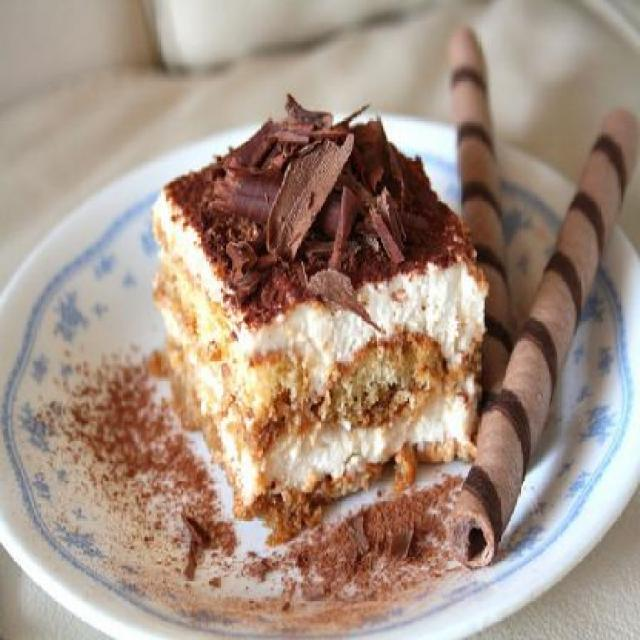Tiramisu: (148, 125, 488, 478)
